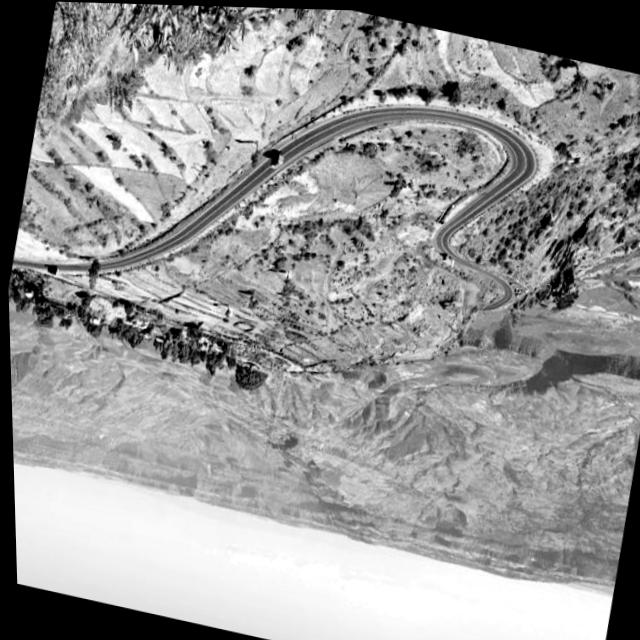cleat: (7, 1, 636, 410)
